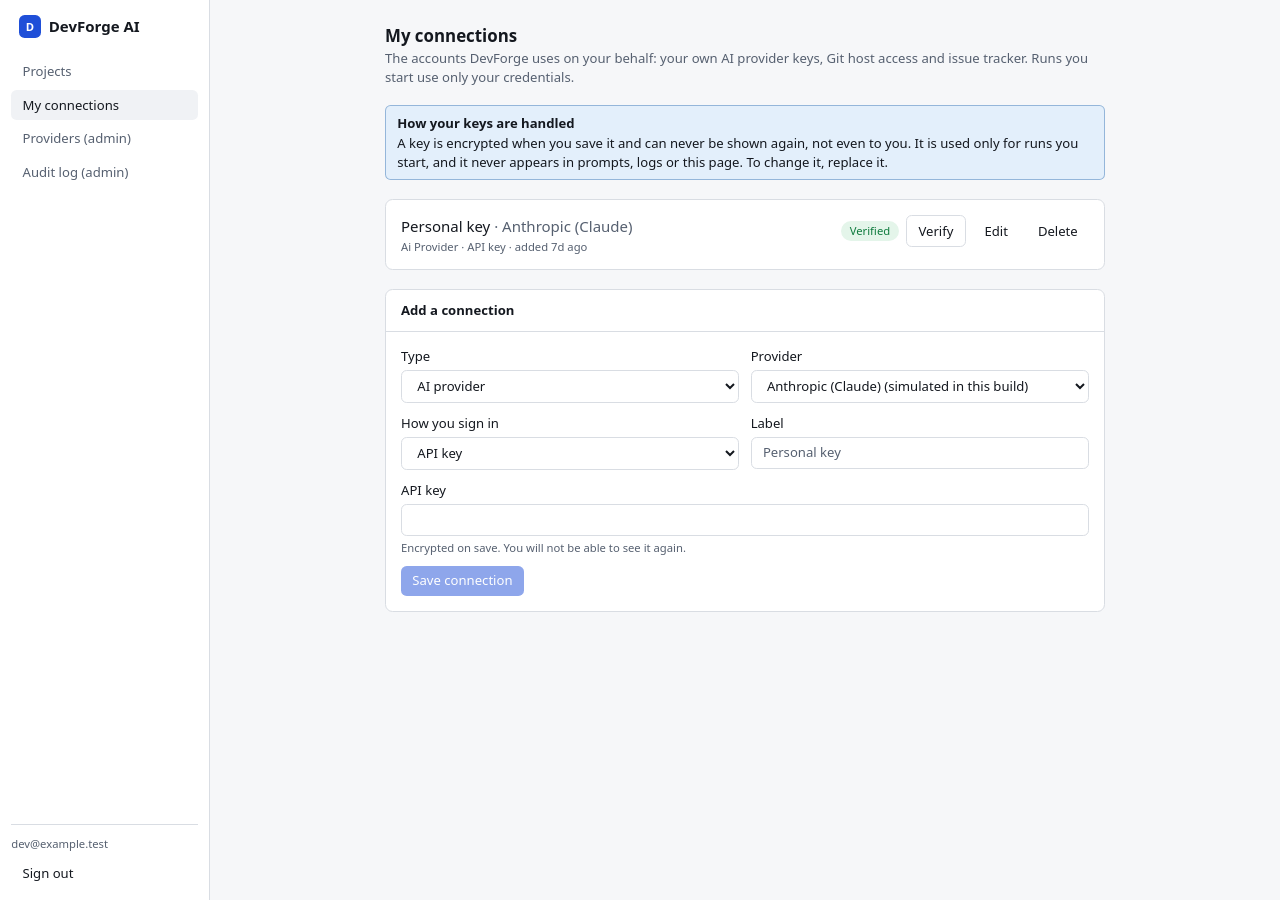
Test: My connections › treats the secret as write-only: password field, sent once, then gone from the page
Type "Work key" into the field labelled "Label" at {"x": 920, "y": 453}, box [751,437,1089,469]
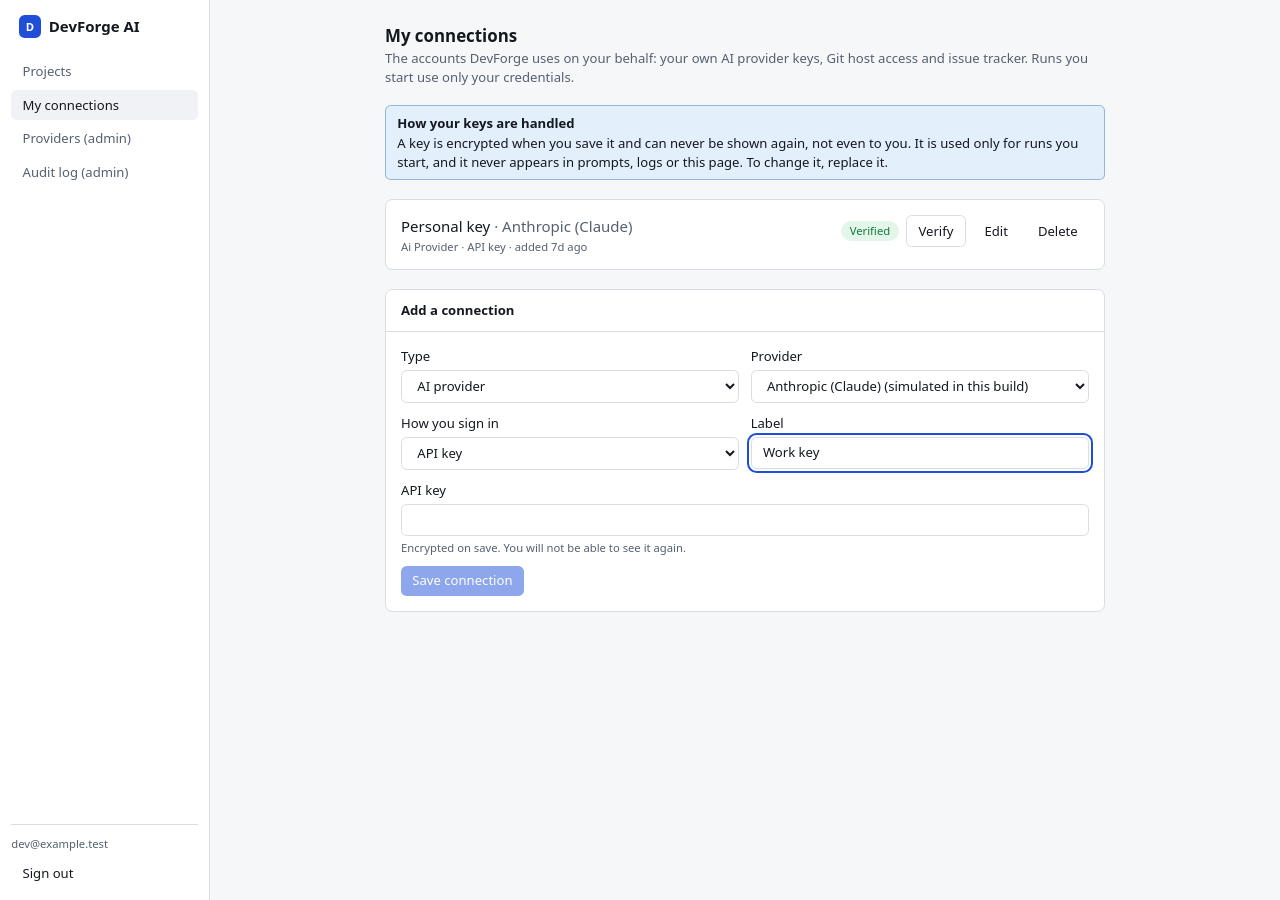
Type "sk-ant-THIS-MUST-NEVER-BE-SHOWN-0123456789" into the password field labelled "API key" at {"x": 745, "y": 520}, box [401,504,1089,536]
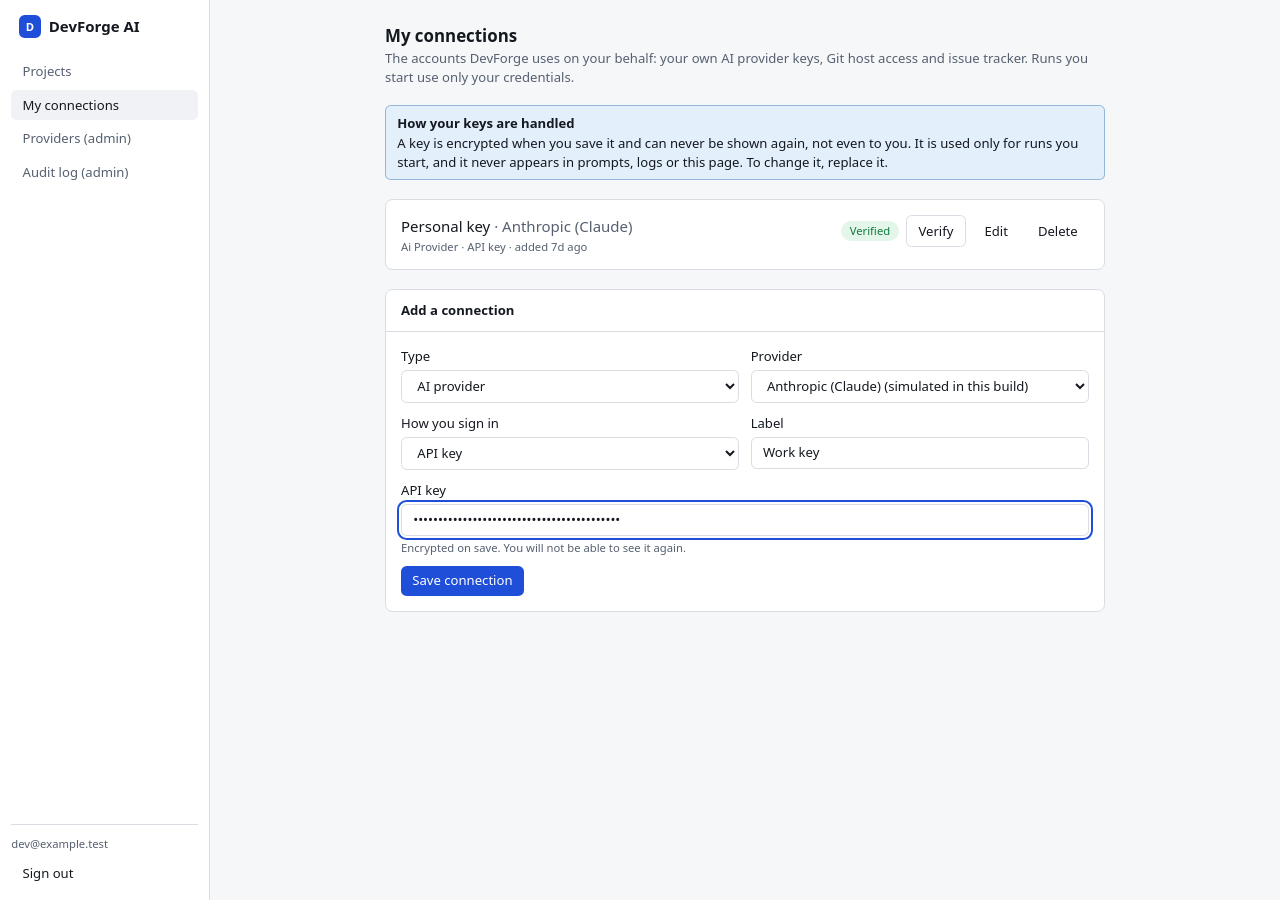
Click the button "Save connection" at {"x": 462, "y": 581}, box [401,566,524,596]
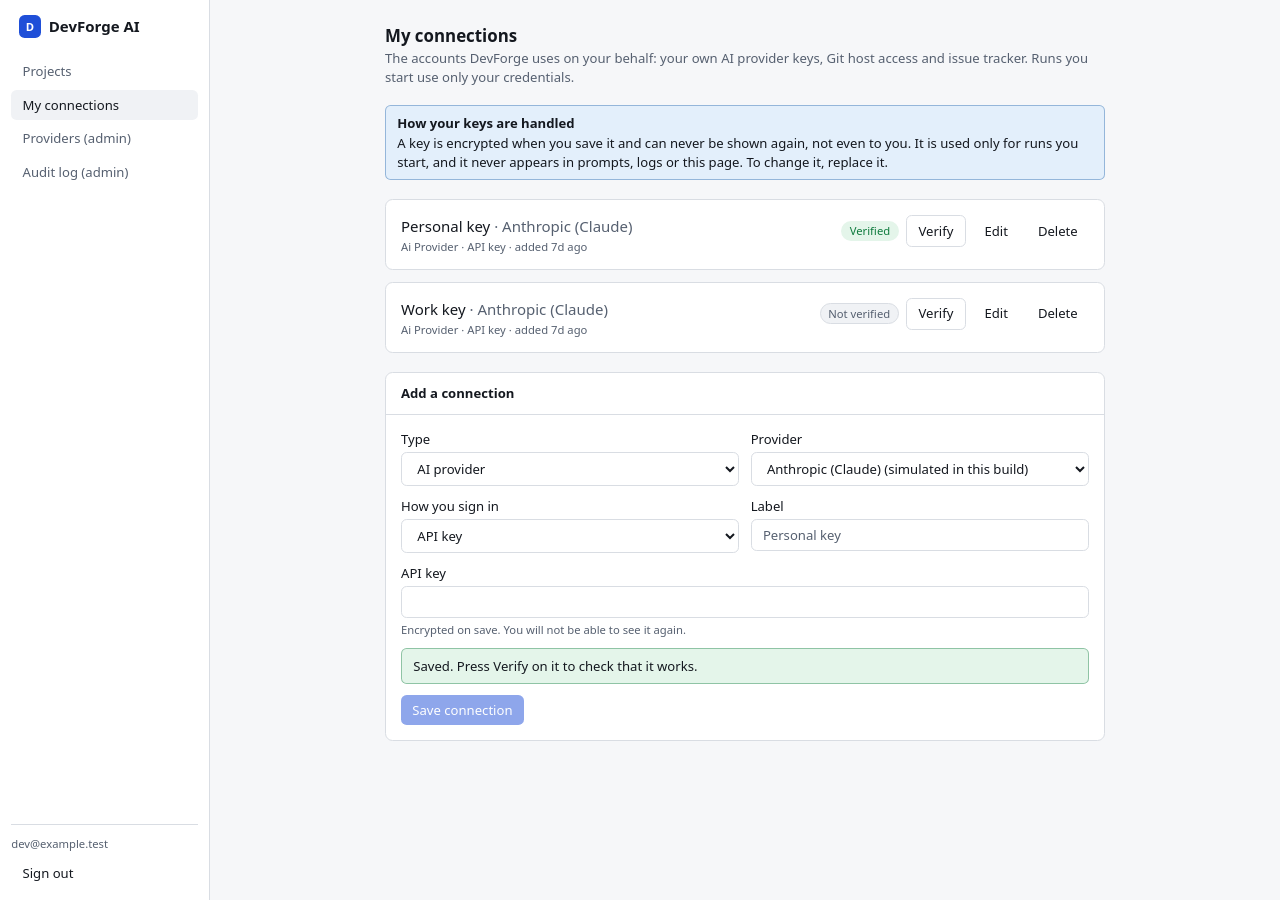
Expected: the text "Saved. Press Verify on it to check that it works." is shown, [413,657,698,675]
Expected: the password field labelled "API key" is empty, [401,586,1089,618]
Expected: the text "Work key" is shown, [401,298,466,318]
